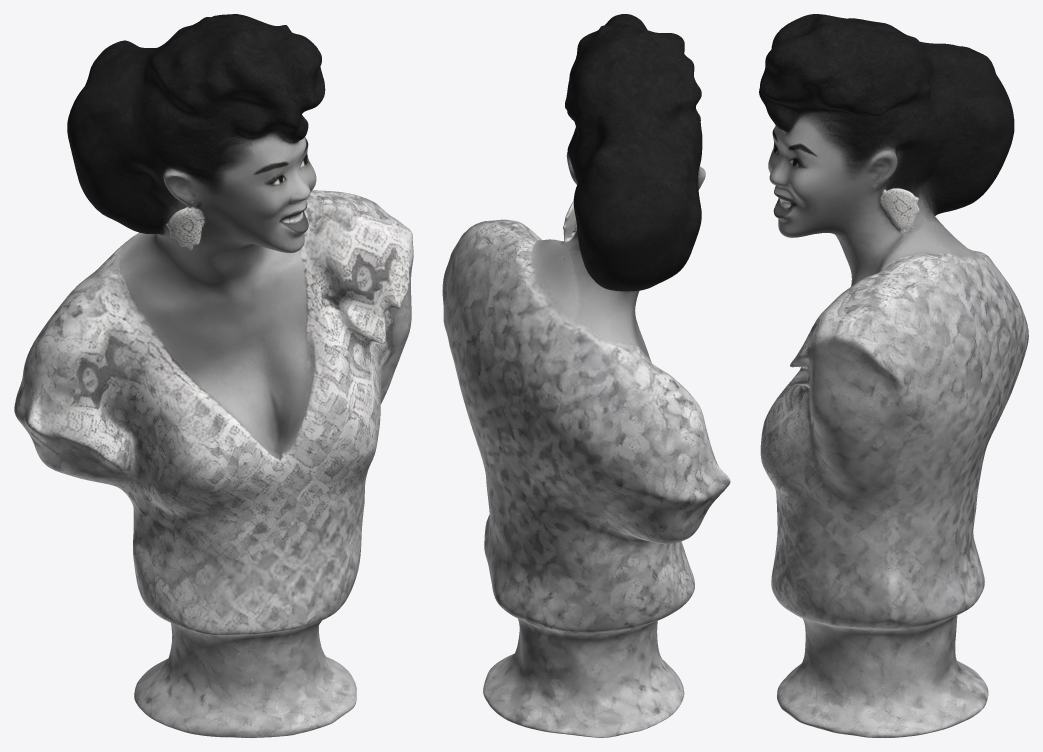
File: Meshy_AI_Radiant_Elegance_compressed.glb
3 views of the same model, side by side, from view 1: azimuth 30°, elevation 25°; view 2: azimuth 150°, elevation 25°; view 3: azimuth 270°, elevation 25° (orthographic). The views are drawn at different scales.
Bounding box in the file's own units: 0.9435 × 1.88 × 0.6903.
Materials: 1 (1 with a texture image).
